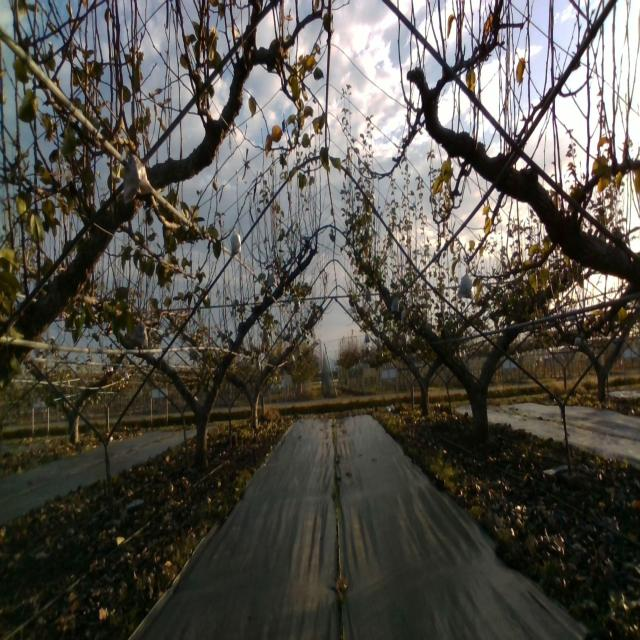pearbags: (123, 151, 154, 205), (456, 268, 472, 299), (230, 227, 242, 255), (266, 270, 278, 289)
